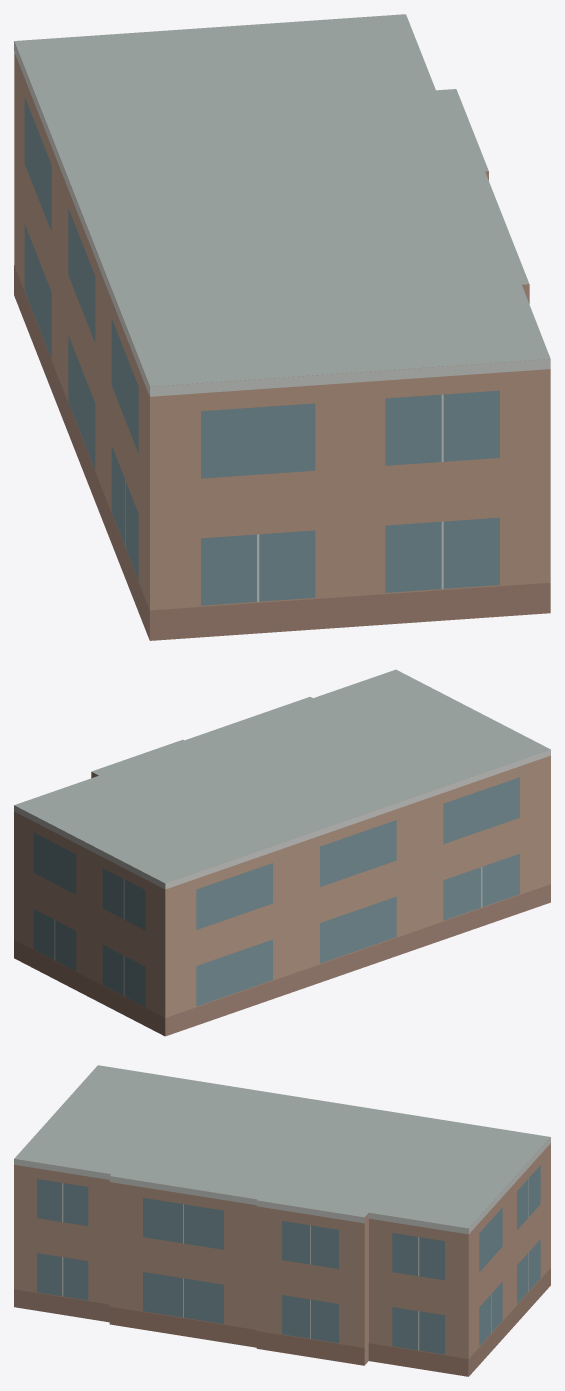
File: survey-upis-32823213.glb
3 renders of one model, top to bottom at view 1: azimuth 30°, elevation 25°; view 2: azimuth 150°, elevation 25°; view 3: azimuth 270°, elevation 25°, orthographic. The views are drawn at different scales.
Parts seen in each view (by area): view 1: survey-upis-32823213.tmp; view 2: survey-upis-32823213.tmp; view 3: survey-upis-32823213.tmp.
Boxes of the visible parts, box(x1,y1,x2,y2) form: survey-upis-32823213.tmp: box(14, 14, 550, 640); survey-upis-32823213.tmp: box(14, 669, 550, 1036); survey-upis-32823213.tmp: box(14, 1065, 550, 1376).
Bounding box in the file's own units: 14.42 × 6.1 × 20.02.
